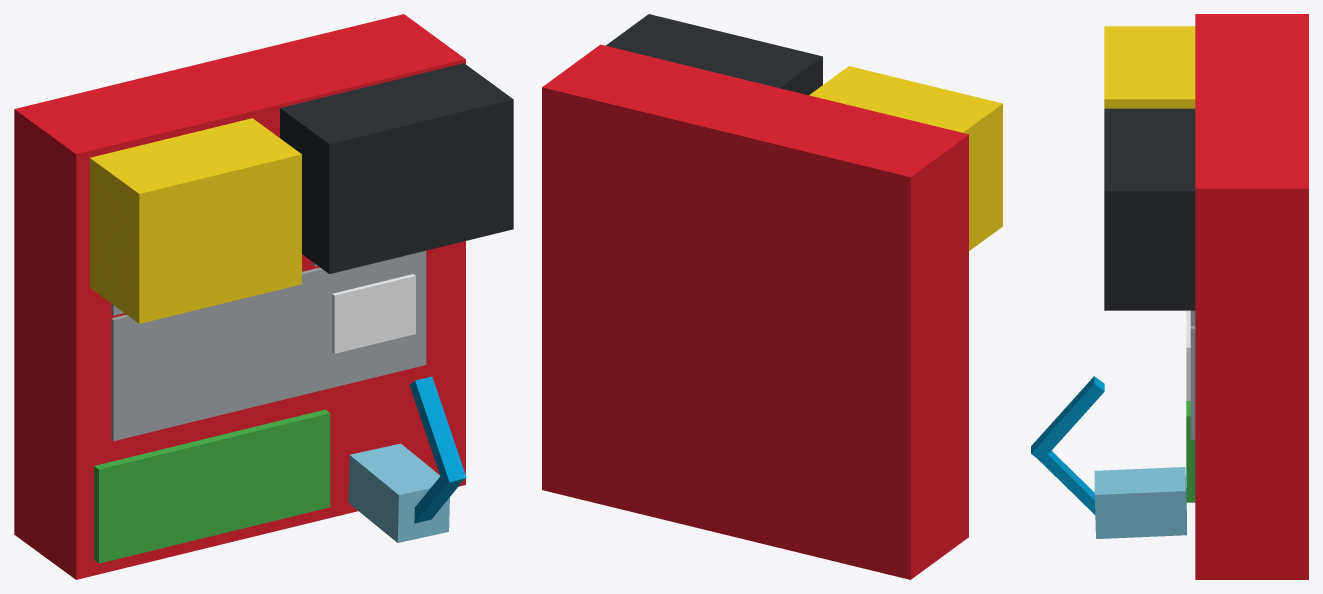
File: tinker.obj
The picture shows the model from 3 angles, left to right: view 1: azimuth 30°, elevation 25°; view 2: azimuth 150°, elevation 25°; view 3: azimuth 270°, elevation 25°; orthographic projection. The views are drawn at different scales.
Visible parts, largest first — view 1: group_0_15277357, group_0_2829873, group_0_16768282, group_0_10988977, group_0_4634441, group_0_8768998, group_0_16448250, group_0_40919; view 2: group_0_15277357, group_0_16768282, group_0_2829873; view 3: group_0_15277357, group_0_2829873, group_0_16768282, group_0_8768998, group_0_40919, group_0_4634441, group_0_10988977, group_0_16448250.
Part boxes in pixels (x1,y1,x2,y2): group_0_15277357: (14,14,465,579); group_0_2829873: (280,63,513,273); group_0_16768282: (90,118,301,323); group_0_10988977: (111,250,426,440); group_0_4634441: (94,409,330,563); group_0_8768998: (348,443,449,542); group_0_16448250: (332,274,415,353); group_0_40919: (409,376,466,523); group_0_15277357: (542,44,968,579); group_0_16768282: (809,66,1002,250); group_0_2829873: (606,14,822,95); group_0_15277357: (1195,14,1308,579); group_0_2829873: (1104,108,1195,310); group_0_16768282: (1104,26,1195,108); group_0_8768998: (1094,467,1186,538); group_0_40919: (1031,376,1104,514); group_0_4634441: (1186,401,1195,502); group_0_10988977: (1190,310,1195,439); group_0_16448250: (1186,311,1190,400).
Bounding box in the file's own units: 91 × 95 × 61.15.
